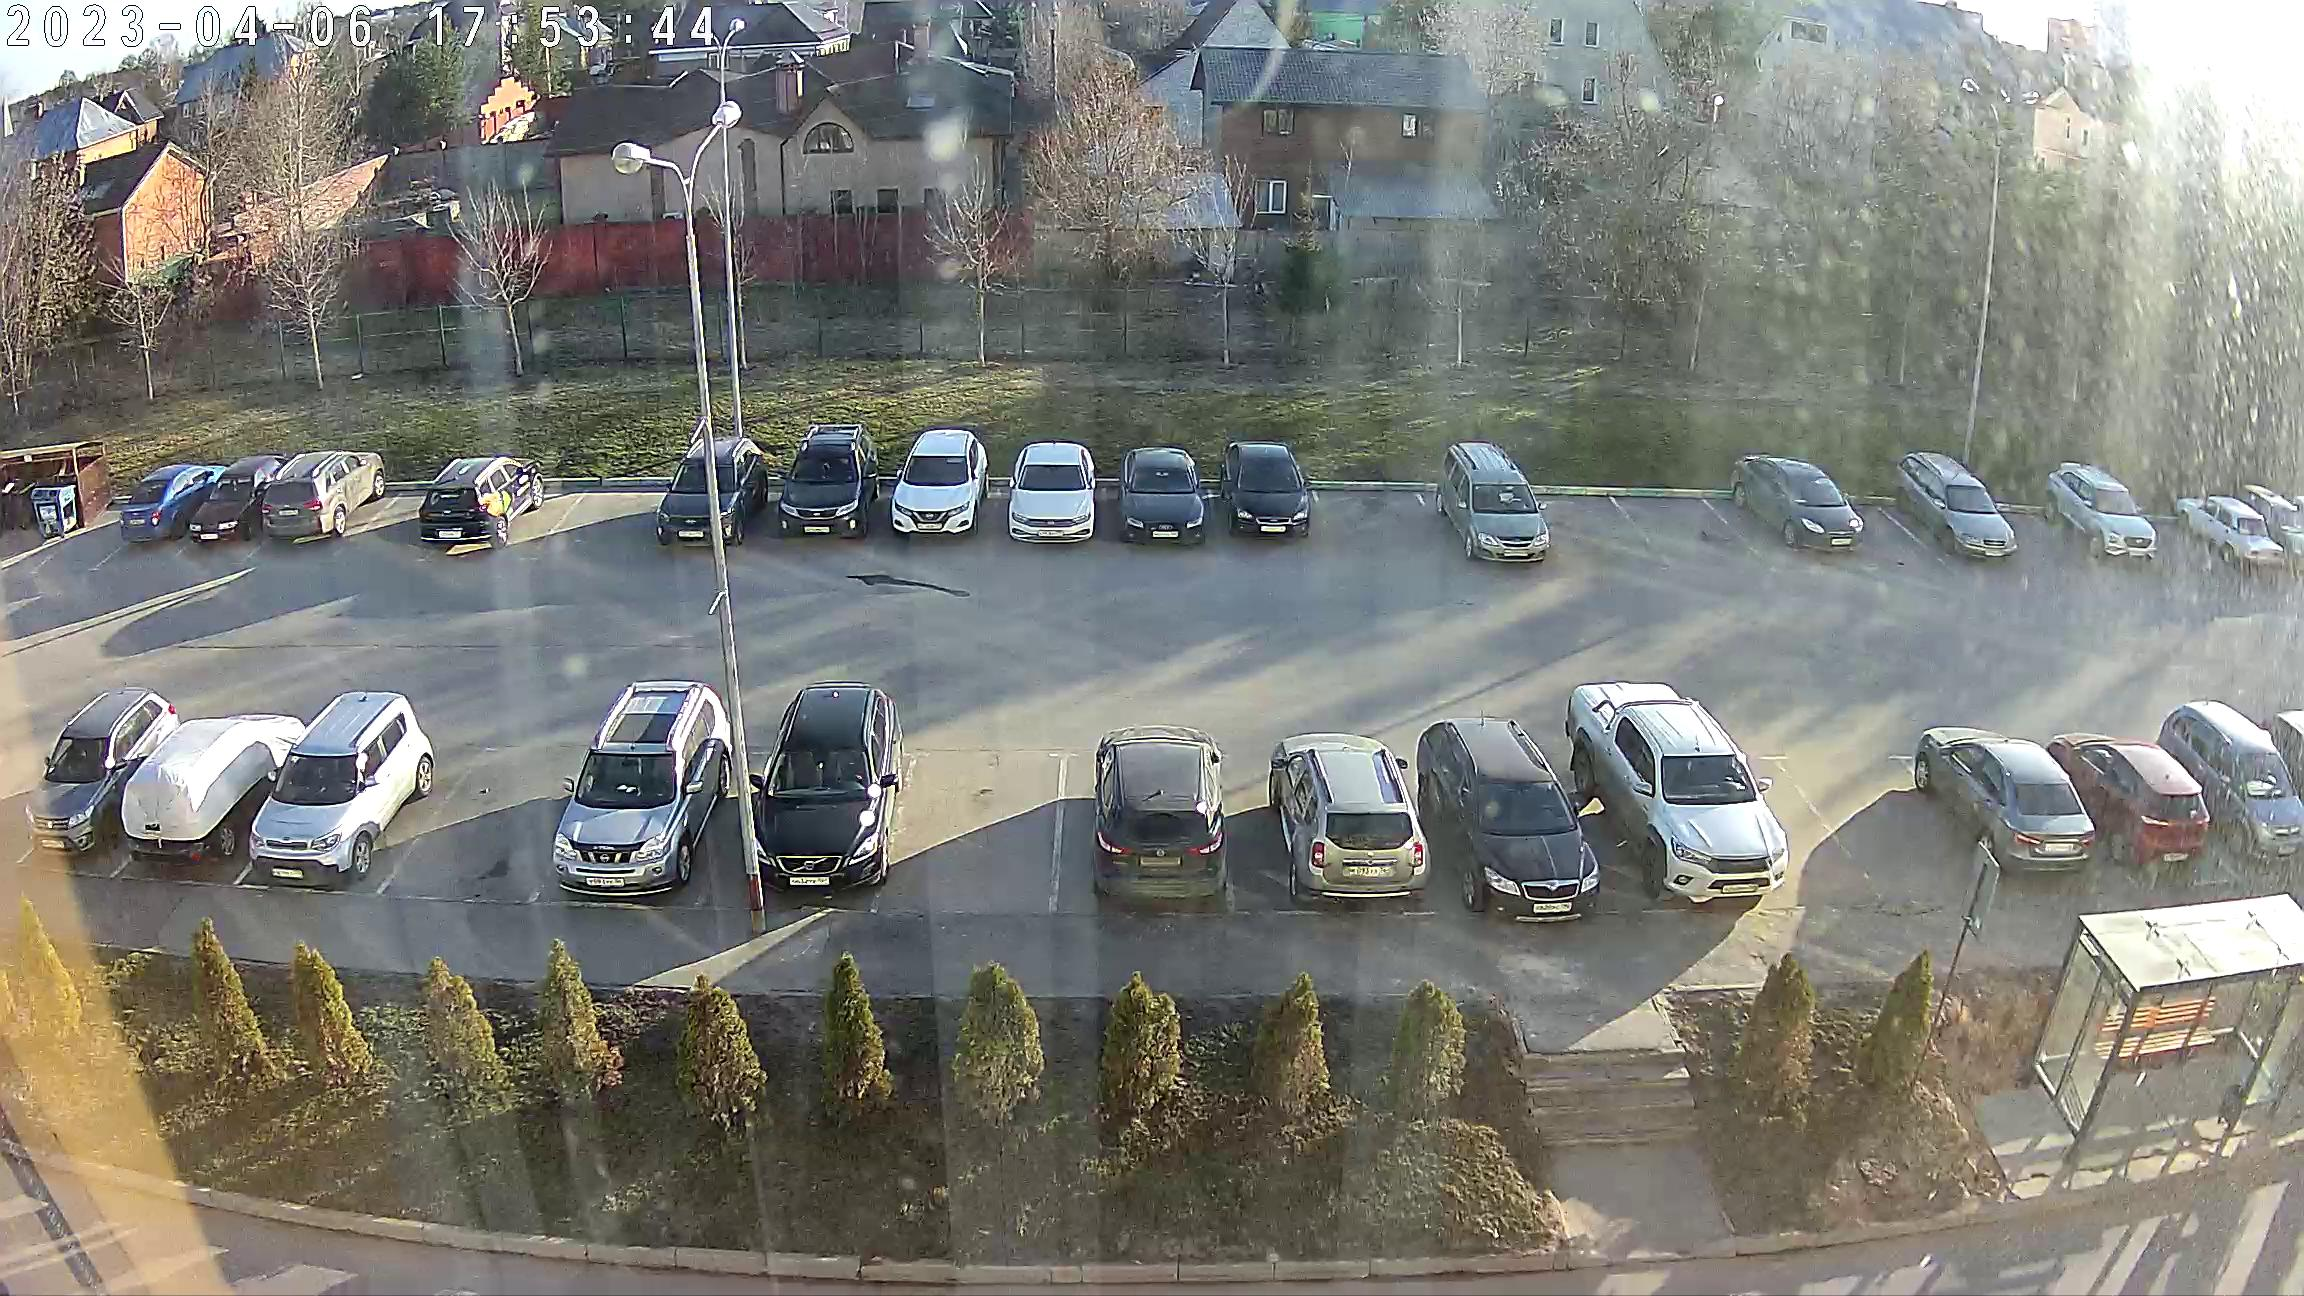empty: (1570, 692, 1810, 899), (225, 696, 441, 889), (559, 666, 733, 900), (1427, 725, 1630, 916), (731, 687, 926, 885), (1067, 729, 1250, 905), (1269, 742, 1453, 900), (19, 687, 184, 847), (87, 712, 261, 861), (1921, 741, 2119, 867), (1883, 454, 2054, 560), (2065, 741, 2220, 856), (1438, 453, 1587, 565), (193, 456, 381, 544), (2188, 712, 2293, 862), (1725, 460, 1886, 555), (867, 429, 997, 540), (752, 437, 883, 541), (984, 446, 1112, 551), (400, 462, 546, 552), (2043, 470, 2185, 560), (1207, 446, 1337, 544), (108, 464, 255, 548), (1101, 453, 1222, 549), (2179, 491, 2302, 571)
occupied: (396, 715, 584, 897), (892, 726, 1076, 911), (1796, 734, 1953, 894), (1627, 460, 1742, 579), (1530, 484, 1639, 578), (1332, 462, 1427, 565), (334, 470, 434, 560), (1988, 479, 2071, 574), (576, 475, 666, 562), (1842, 486, 1926, 563), (2138, 492, 2203, 574)
